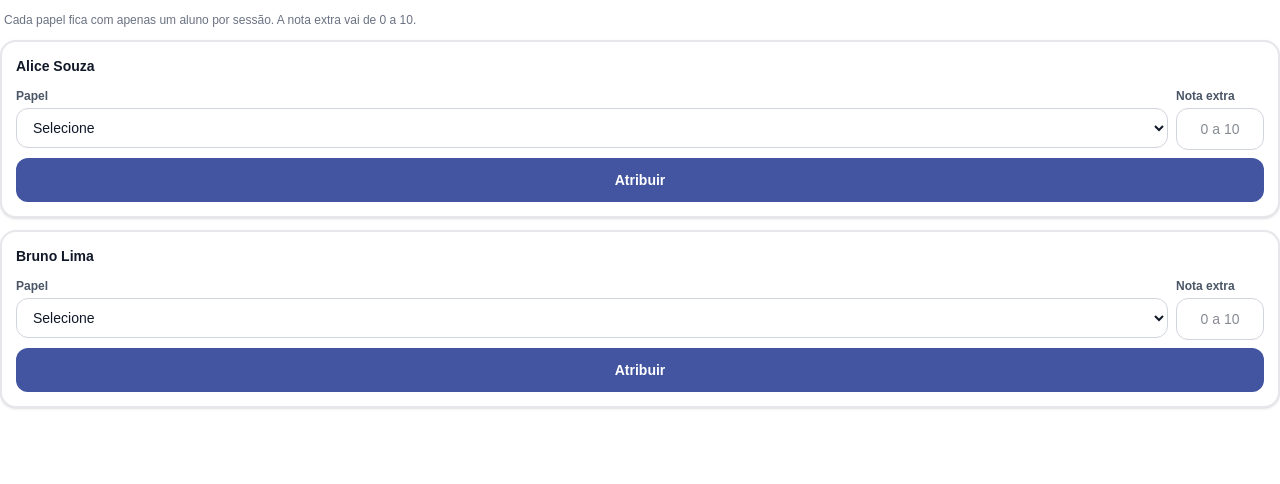
it: [US10] Integração do SessionRolesPanel › Deve exibir a recusa do backend e desfazer o destaque quando o usuário não é o tutor da sala
The image size is (1280, 484).
Select "Coordenador" in the dropdown labelled "Papel" below "Alice Souza". click: (592, 128)
box: [16, 108, 1168, 148]
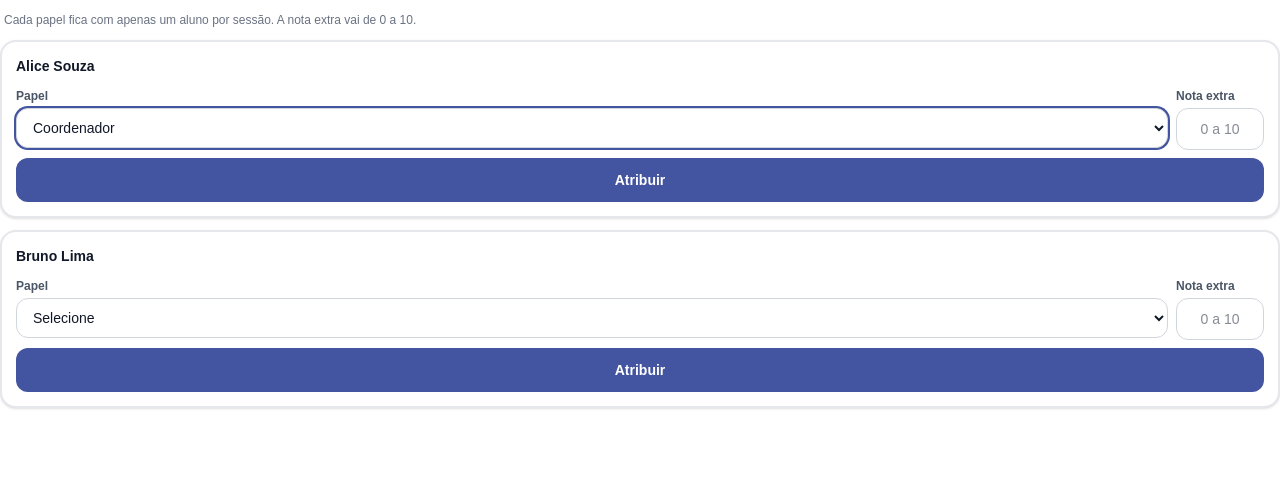
Type "1" into the 1st field labelled "Nota extra". click: (1220, 129)
box: [1176, 108, 1264, 150]
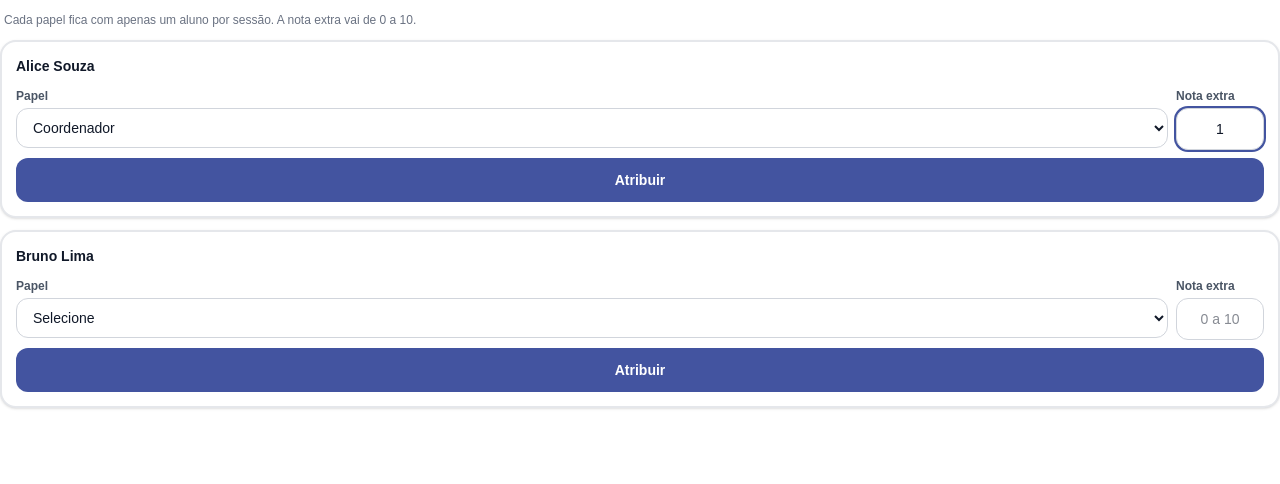
Click the button "Atribuir" below "Alice Souza". click: (640, 180)
box: [16, 158, 1264, 202]
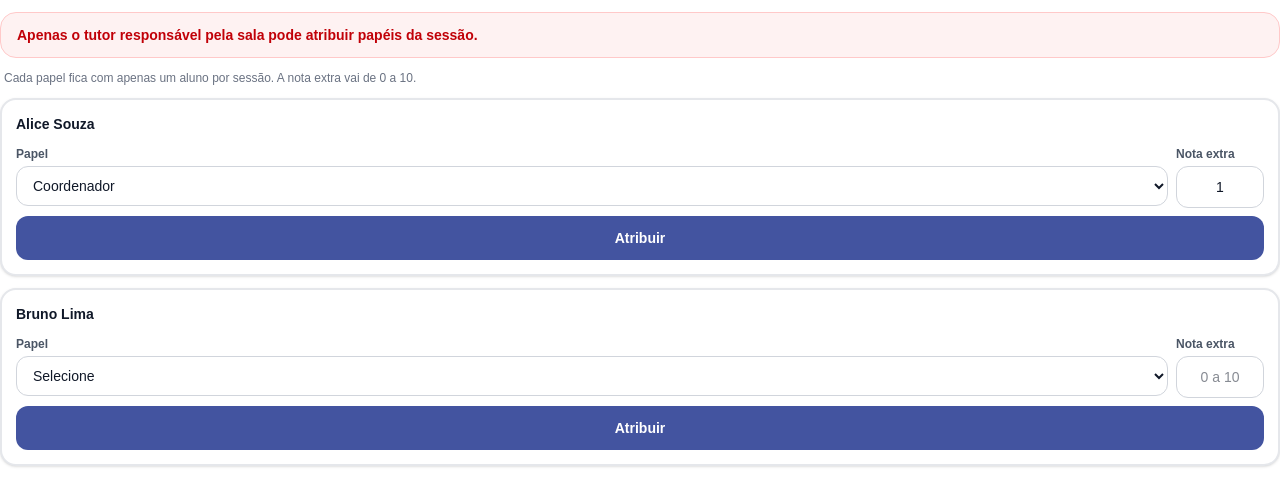
Expected: the message shows "Apenas o tutor responsável pela sala pode atribuir papéis da sessão", [17, 27, 478, 43]
Select "Secretário de Mesa" in the dropdown labelled "Papel" below "Alice Souza". click: (592, 186)
box: [16, 166, 1168, 206]
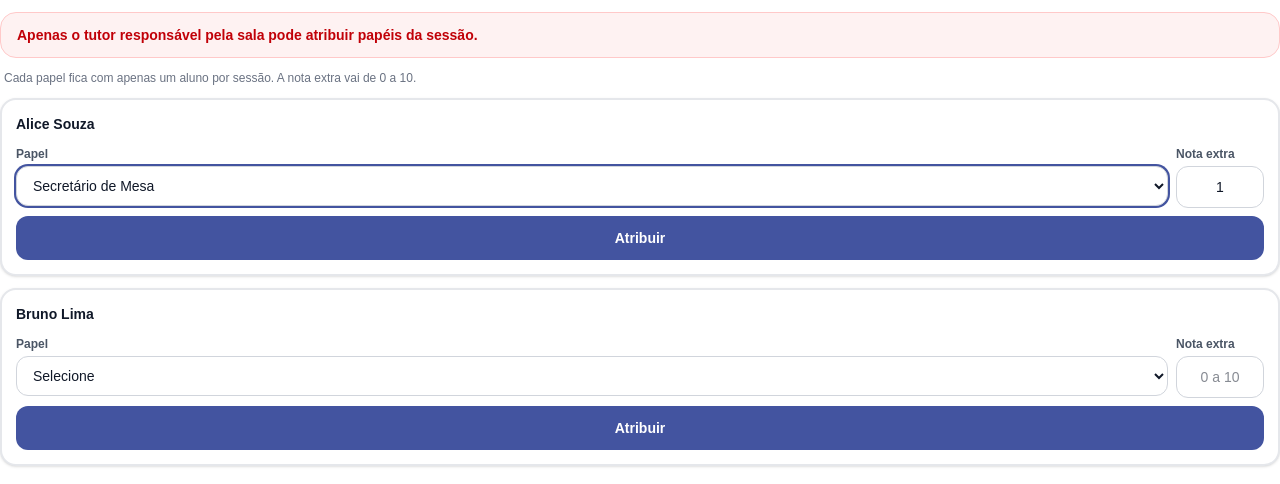
Replace the text in the 1st field labelled "Nota extra" with "0.5". click: (1220, 187)
box: [1176, 166, 1264, 208]
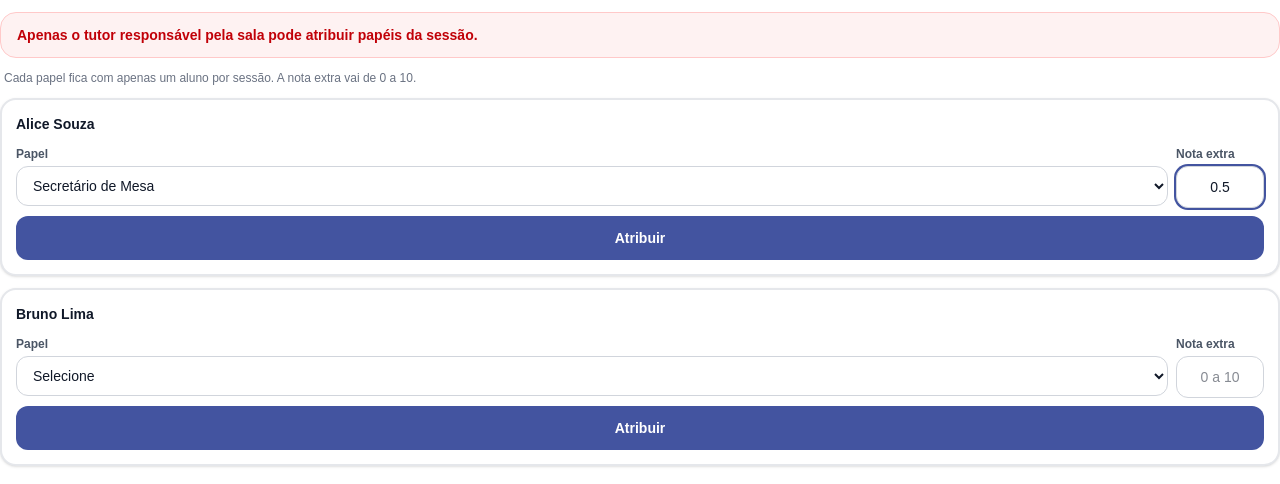
Click the button "Atribuir" below "Alice Souza". click: (640, 238)
box: [16, 216, 1264, 260]
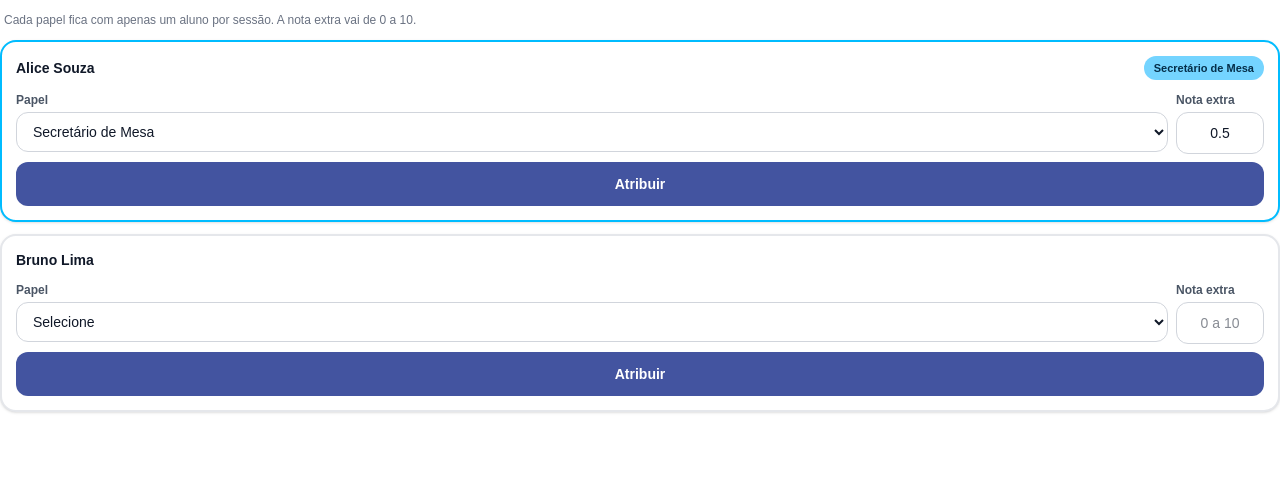
Expected: the message "Apenas o tutor responsável pela sala pode atribuir papéis da sessão." is gone
Expected: the text "Secretário de Mesa" is shown, [1144, 56, 1264, 80]
